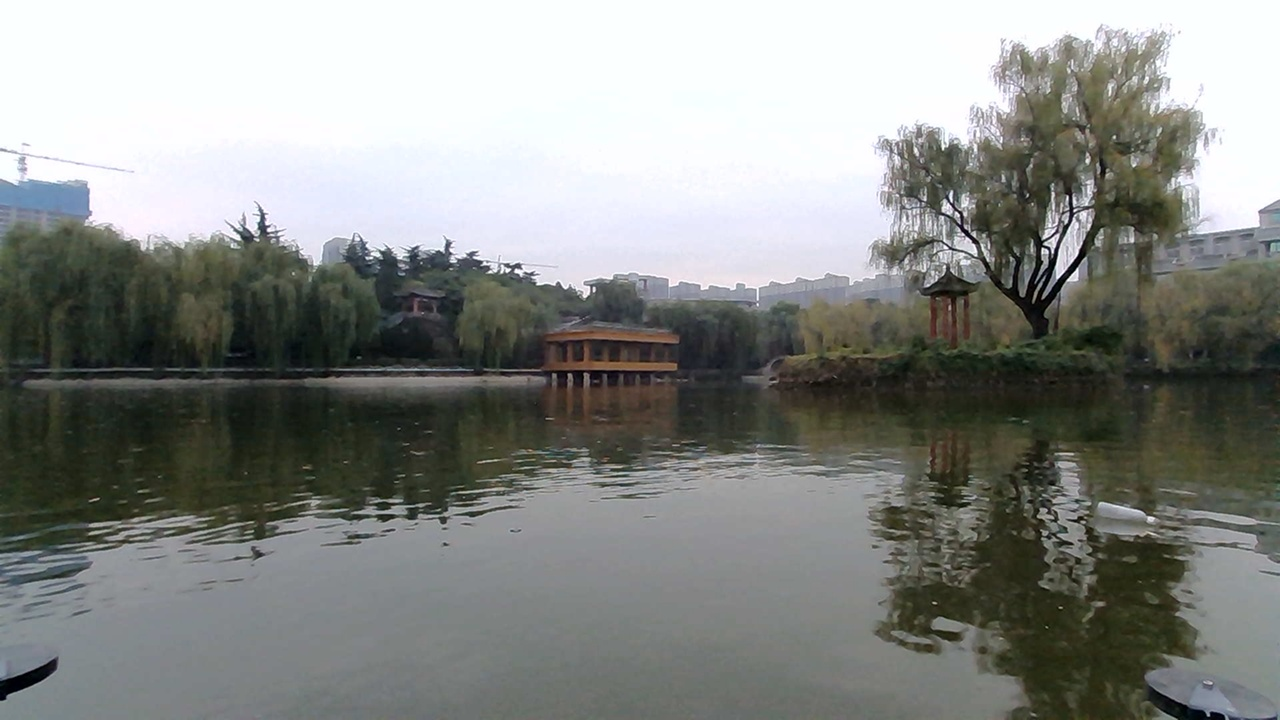bottle: (1077, 495, 1141, 528)
